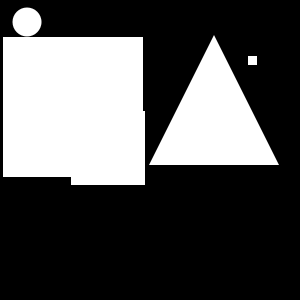circle: (3, 37, 143, 177), (71, 111, 145, 185), (248, 56, 257, 65)
rectangle: (12, 8, 42, 36)
triangle: (149, 35, 279, 165)
